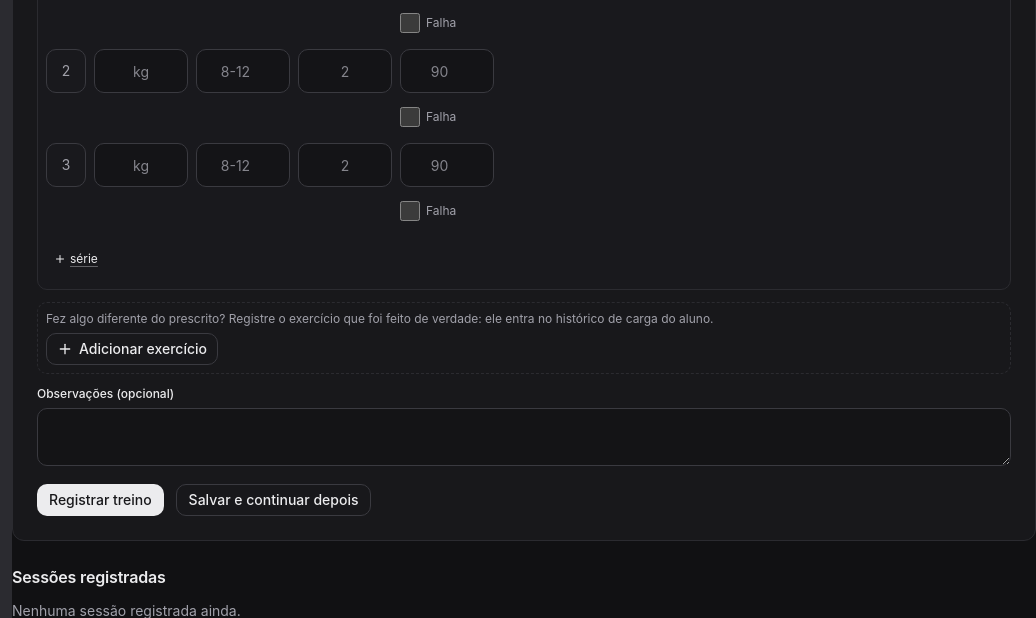
Scenario: Execucao — exercício fora do plano › o avulso pertence à sessão gravada e não reaparece na próxima
(page scrolled)
Click the button "Adicionar exercício" at (132, 349), box top-left (46, 333), bottom-right (218, 365)
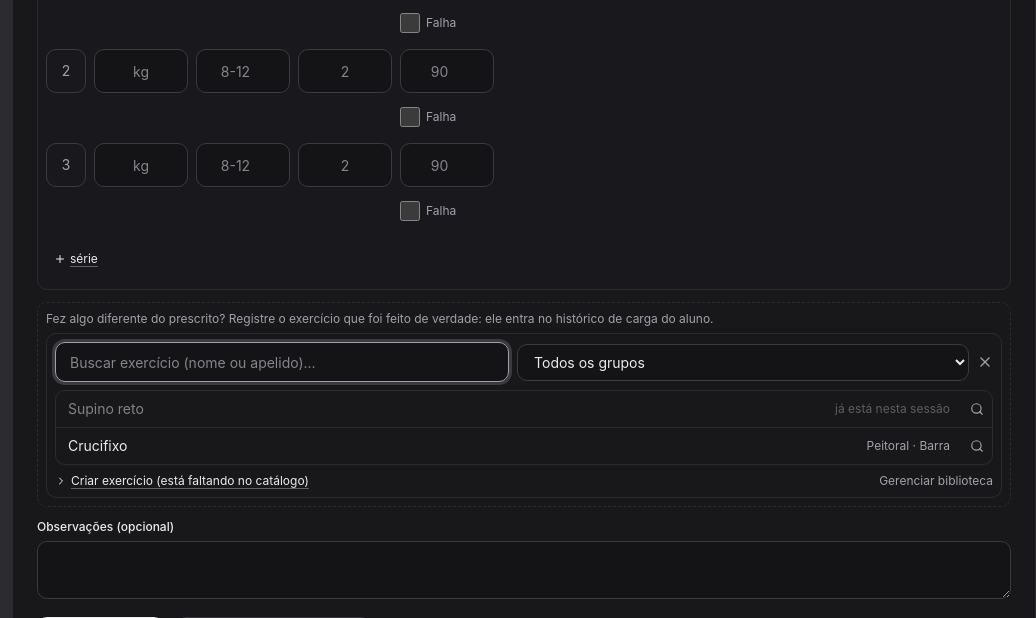
Click the button "Crucifixo Peitoral · Barra" at (98, 446), box top-left (56, 428), bottom-right (962, 464)
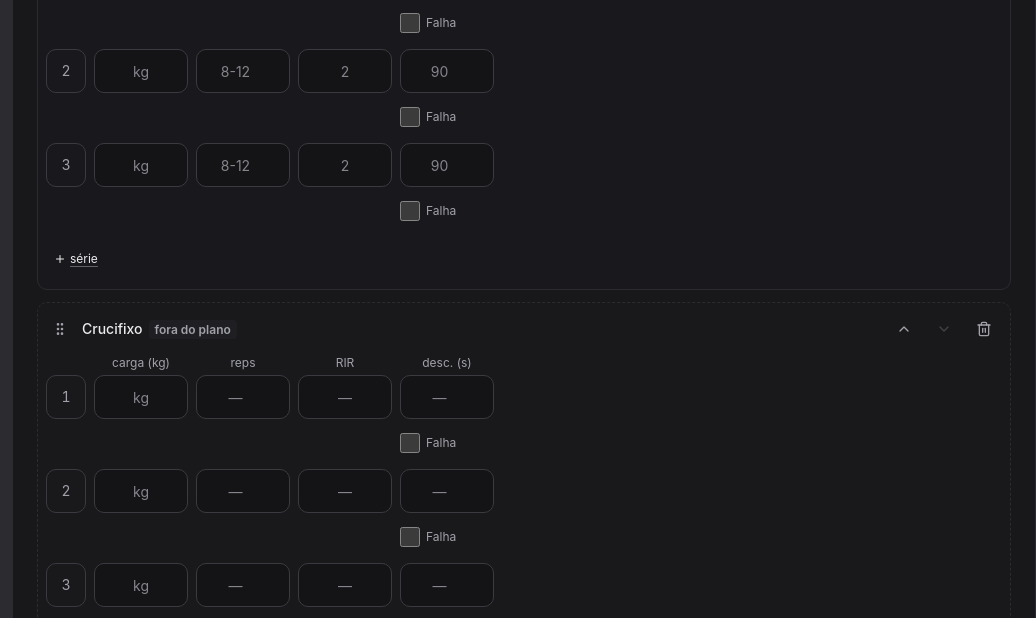
Type "14" into the field named "Carga da série 1 de Crucifixo" at (141, 397), box top-left (94, 375), bottom-right (188, 419)
(page scrolled)
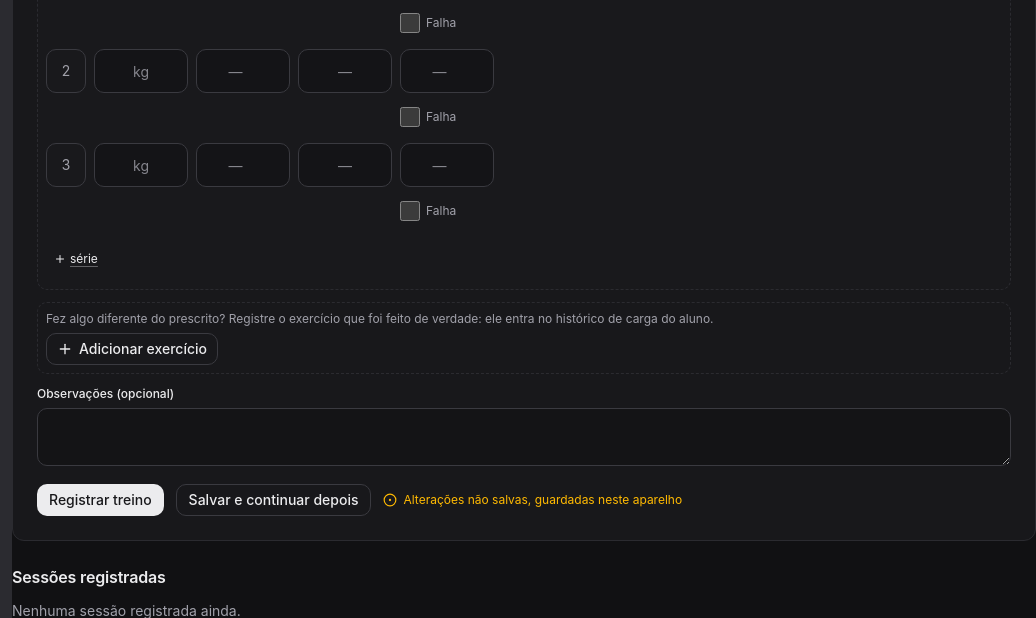
Click the button "Registrar treino" at (100, 500), box top-left (37, 484), bottom-right (164, 516)
(page scrolled)
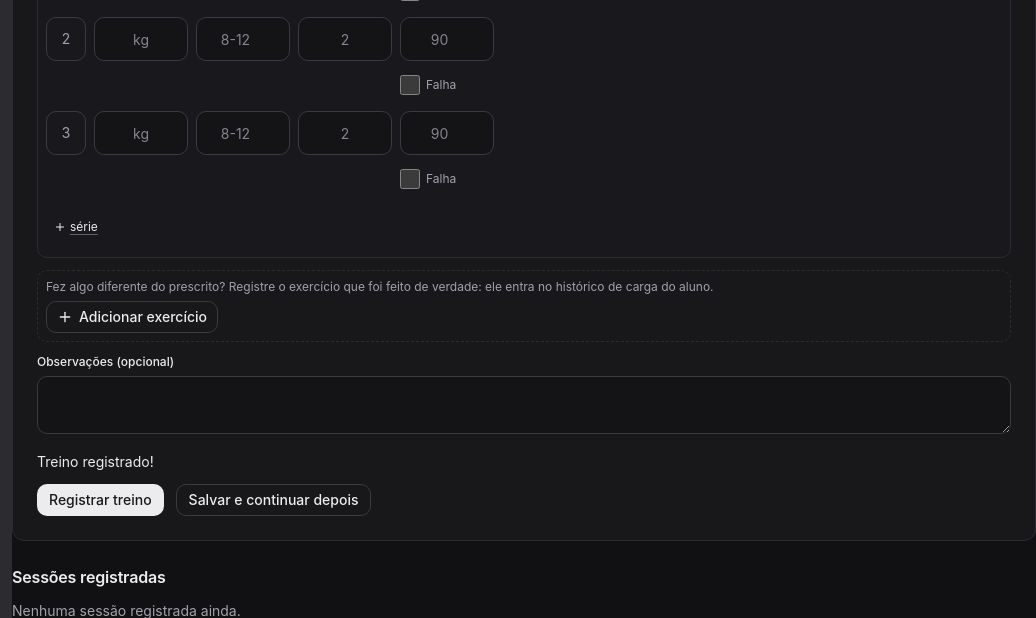
Now the text "Treino registrado!" is shown, box top-left (37, 453), bottom-right (154, 470)
